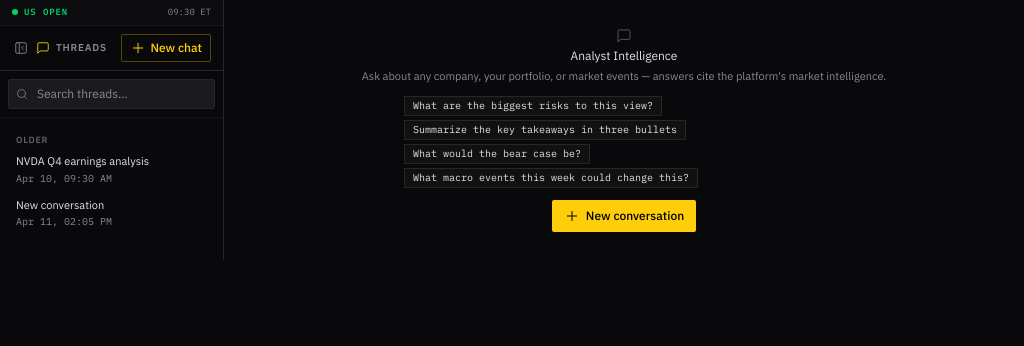
Test: Chat page — new chat button › clicking New chat reveals the message input
Note: Click "New chat" button — should transition from welcome state to chat input
Click the button with aria-label "start new chat" at (166,48), box [121,34,211,62]
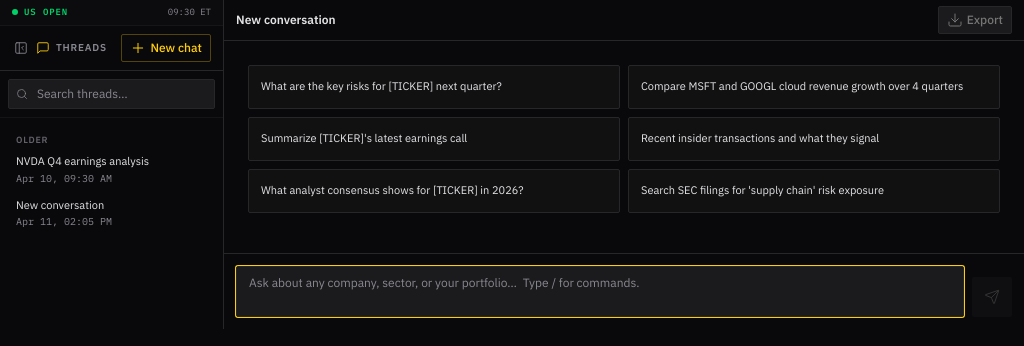
expect the text box named "chat message input" is shown: met, box [236,266,964,317]
